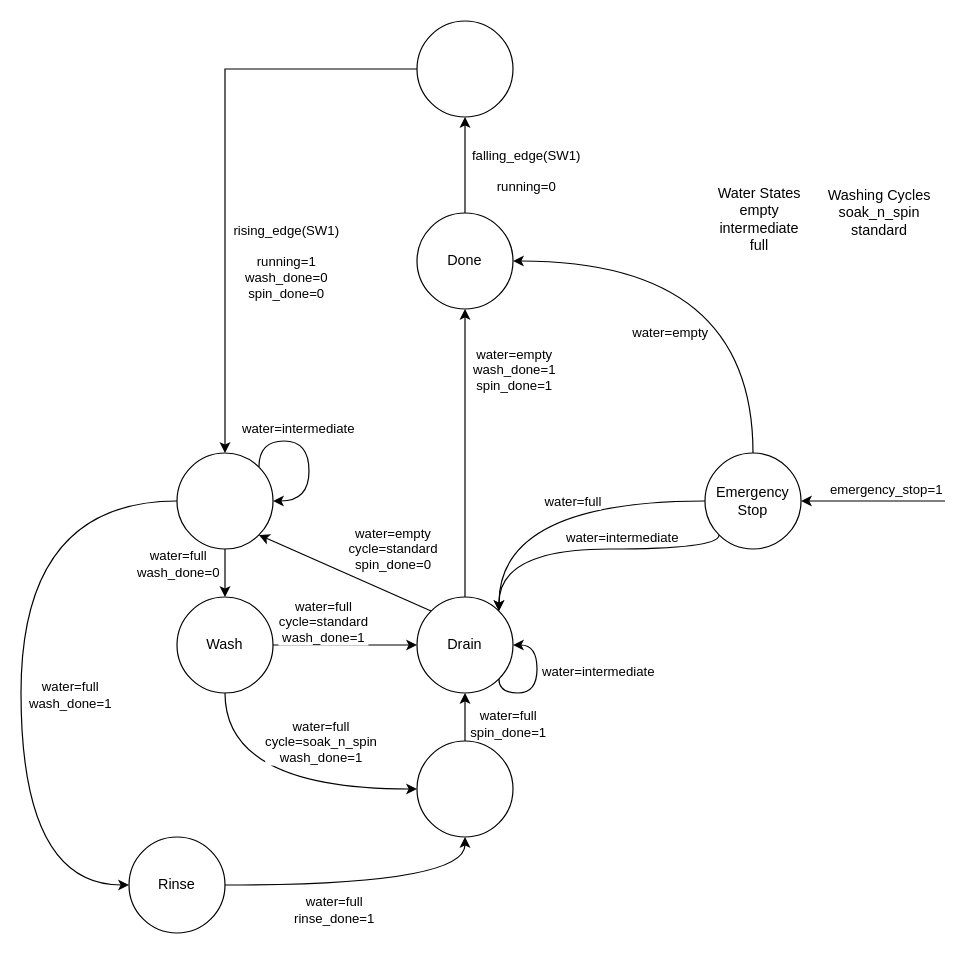
The diagram is 976 pixels wide and 954 high, and some of its shapes have lost their labels. The centre of each missing label's shape, as x and y in pixels:
"Fill" belongs at (224,500).
"Off" belongs at (464,68).
"Spin" belongs at (464,788).
